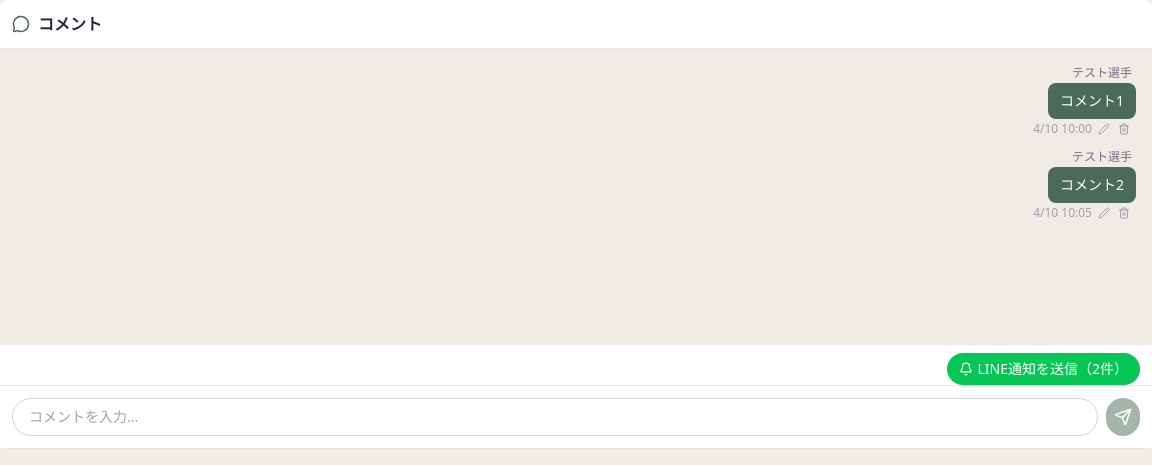
Test: MatchCommentThread LINE通知 › SUCCESS時に成功メッセージが表示される
The width and height of the screenshot is (1152, 465).
Click the button "LINE通知を送信（2件）". click: (1044, 369)
box: [948,353,1140,385]
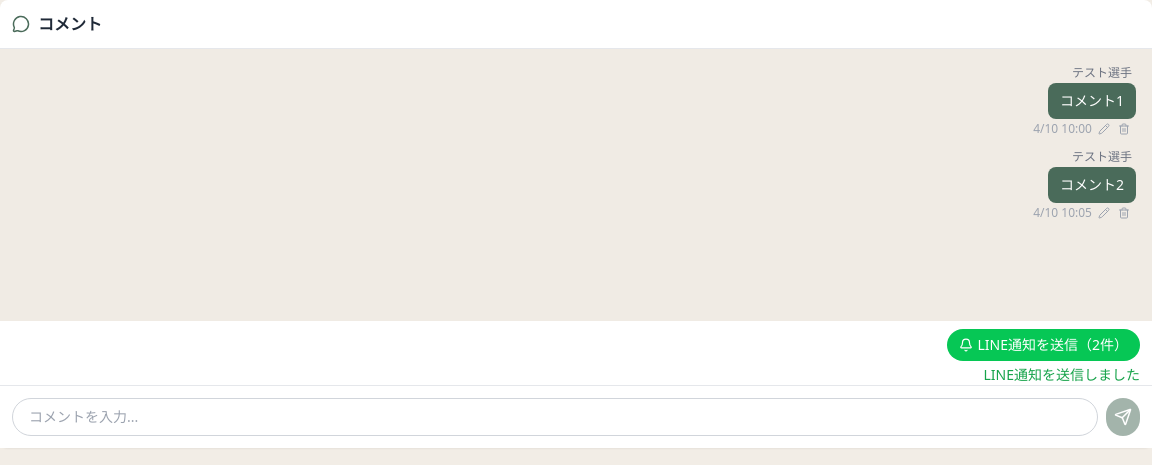
Check: the text "LINE通知を送信しました" is shown, box [984,365,1140,384]
